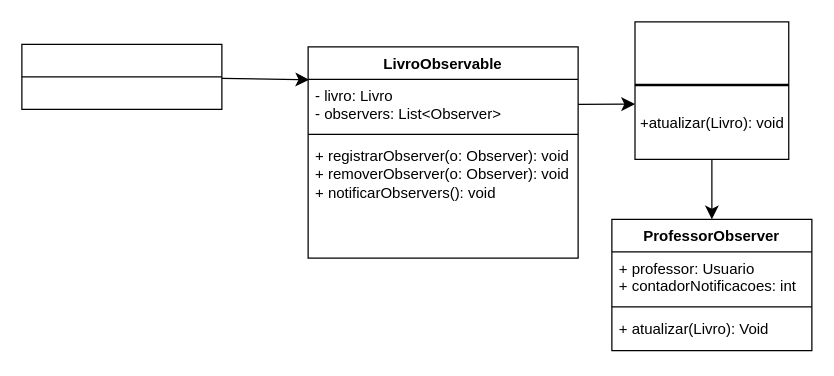
Some shapes in this 834 by 376 pixel diagram are drawn without their labels. Each missing label, with the centre of its shape:
"Livro" belongs at point (121, 76).
"«interface» Observer" belongs at point (711, 52).
